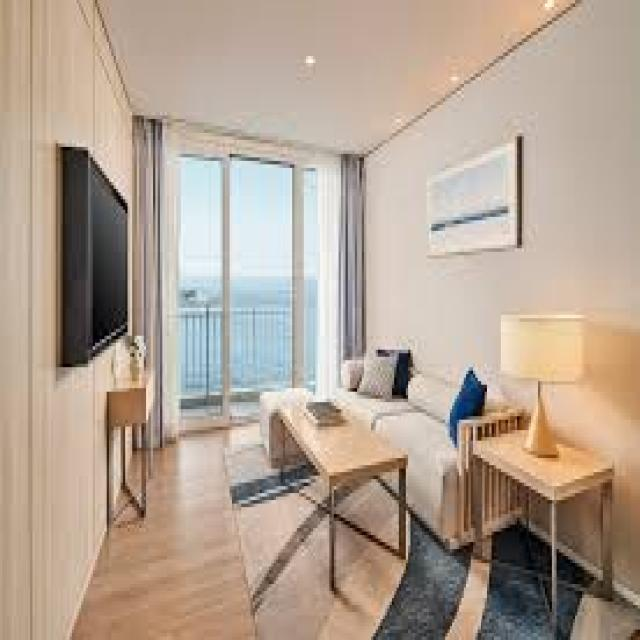Sofa: (344, 354, 524, 541)
Table: (281, 404, 409, 592)
tv: (62, 145, 130, 367)
window: (150, 124, 348, 404)
